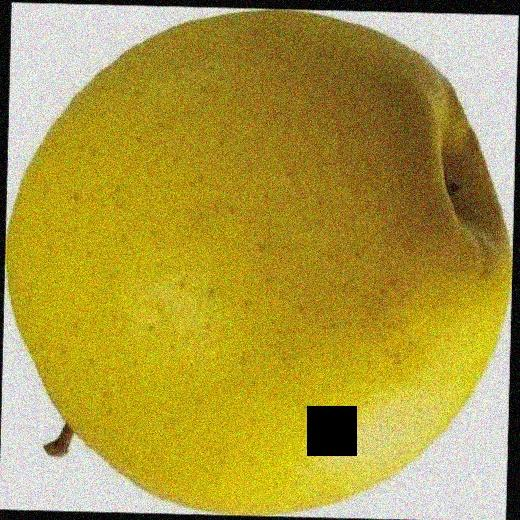green apple: (13, 8, 512, 513)
